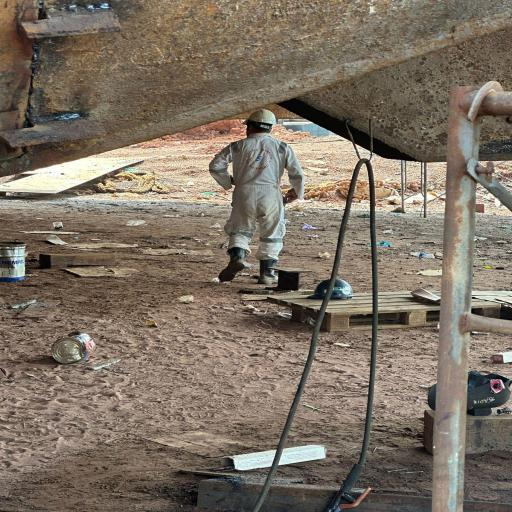safety_shoe: (218, 247, 245, 286), (255, 259, 280, 284)
